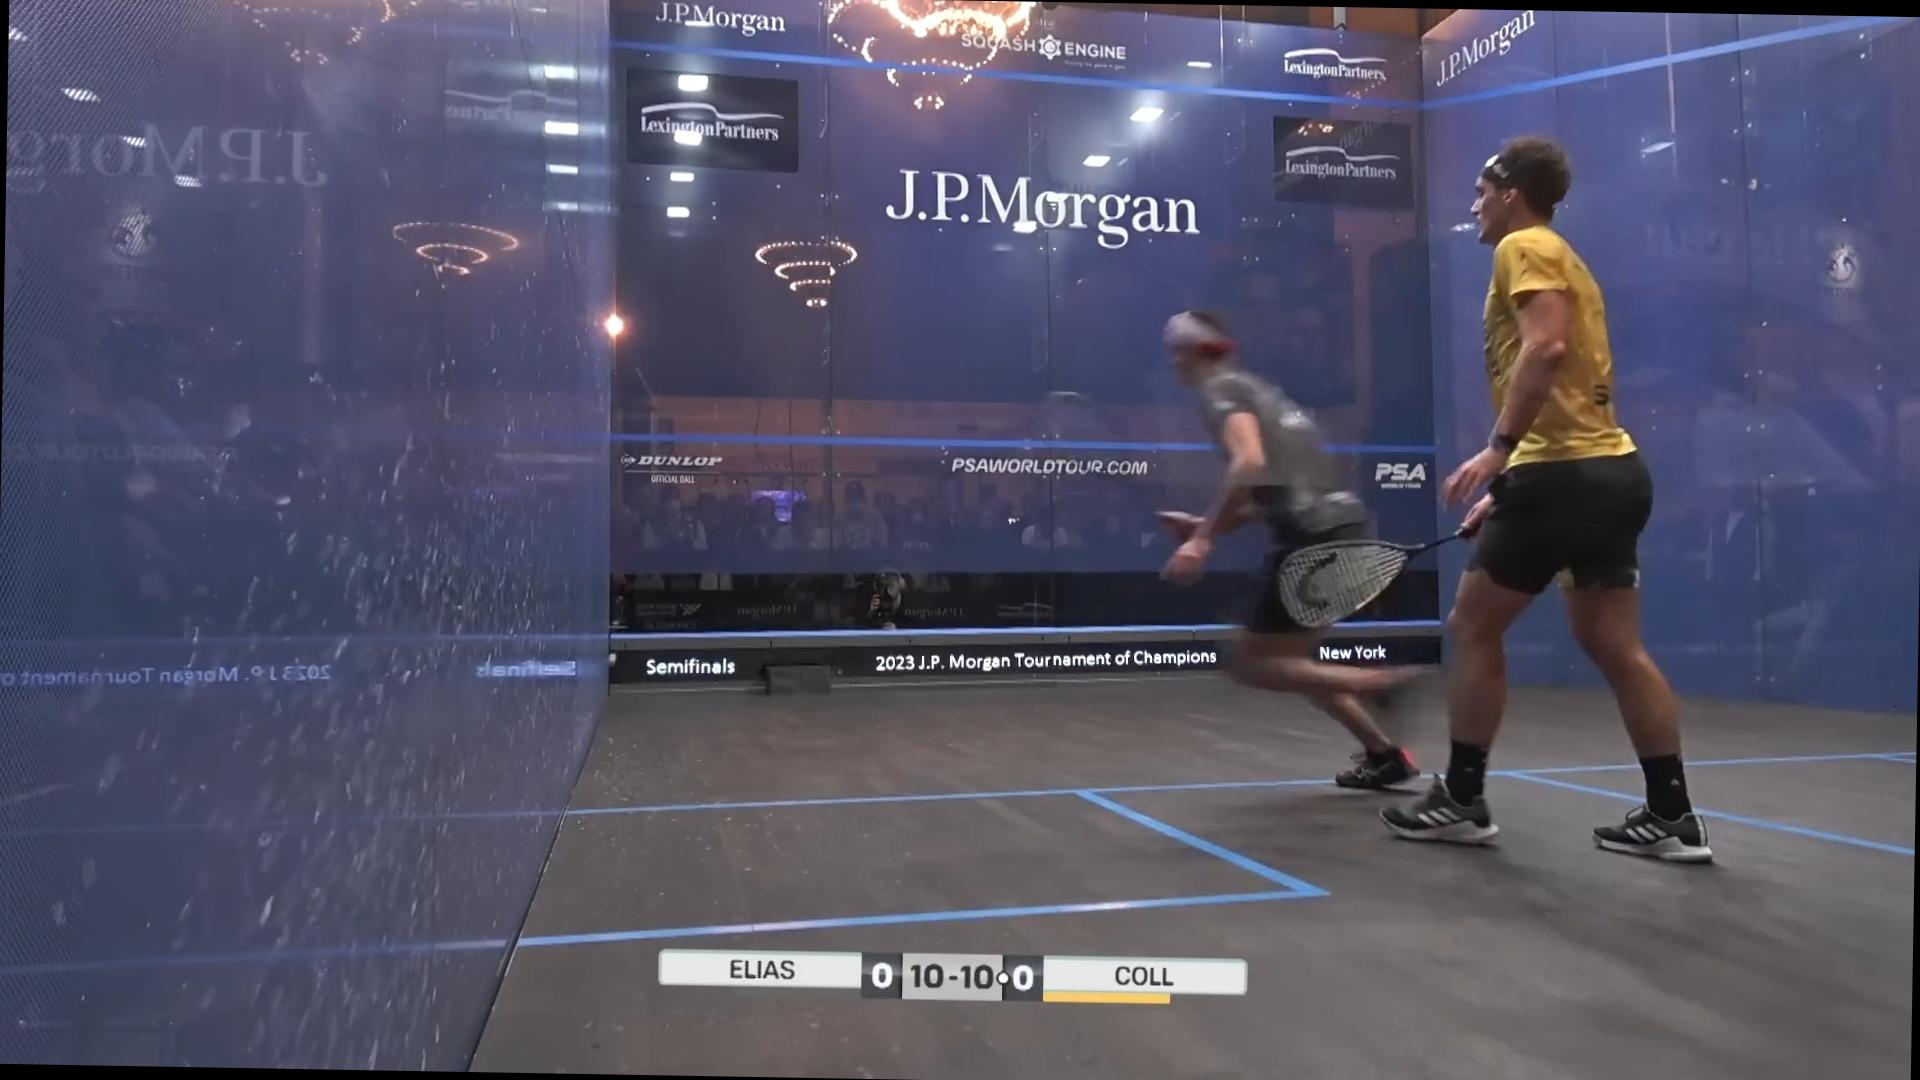Racket: (1265, 517, 1477, 636)
